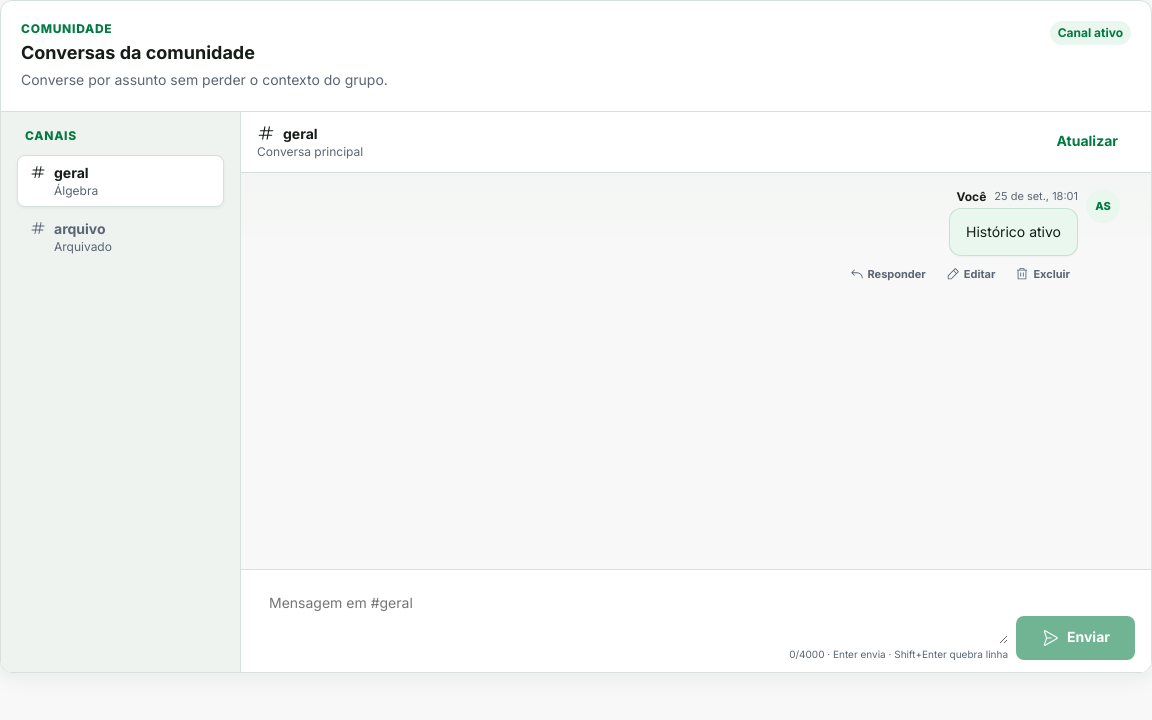
Test: mantém canal arquivado legível e sem composer
The width and height of the screenshot is (1152, 720).
expect the text "Histórico ativo" is shown: met, box [966,221,1061,243]
Click the button "arquivo Arquivado".
click(120, 237)  # box [17,211,224,263]
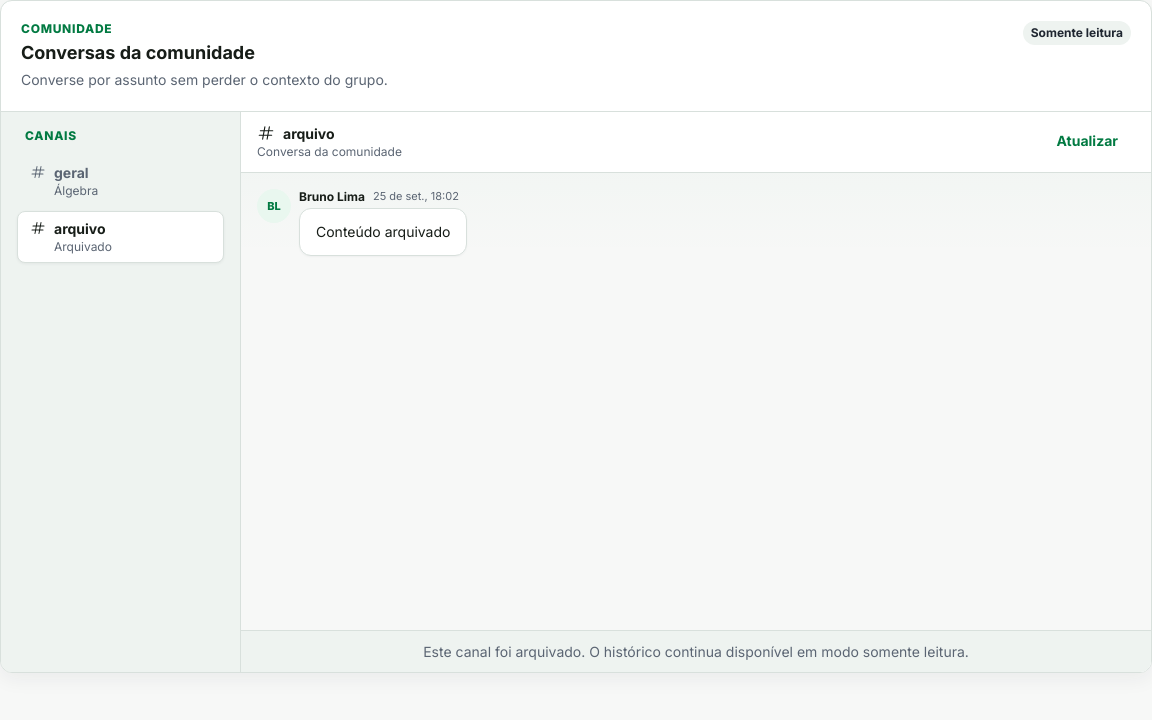
expect the text "Conteúdo arquivado" is shown: met, box [316,221,450,243]
expect the text "Este canal foi arquivado. O histórico continua disponível em modo somente leitura." is shown: met, box [423,643,969,660]
expect the button "Responder" is gone: met
